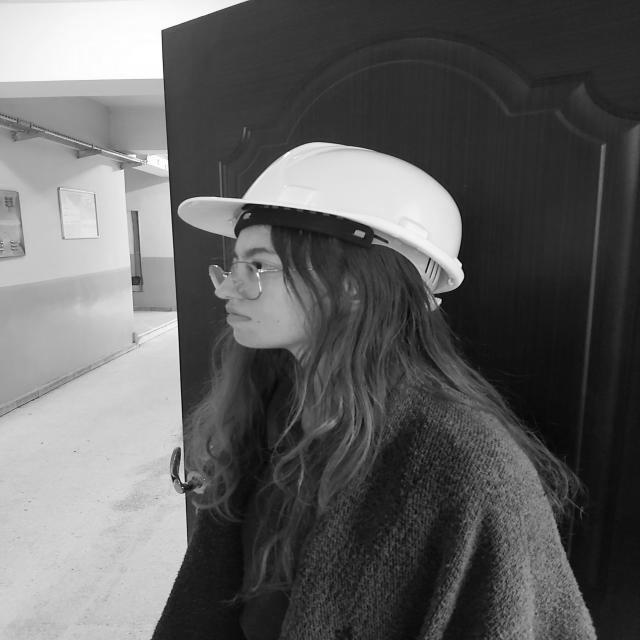construction helmet: (179, 142, 466, 303)
